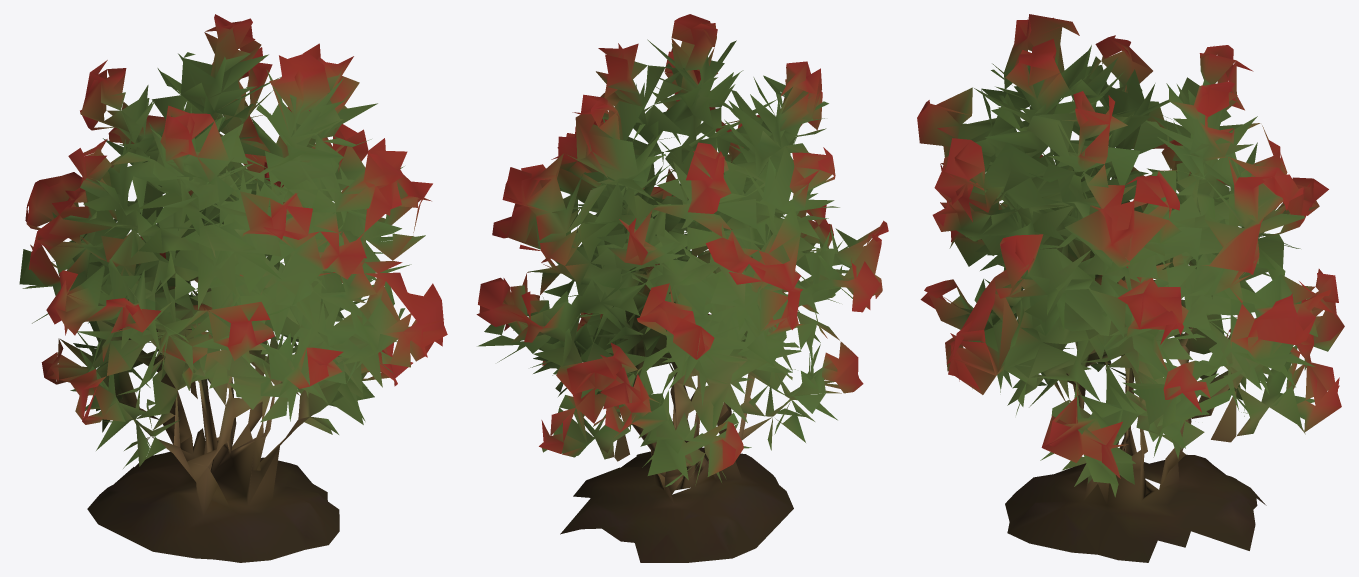
Rendered from nature_bush_t1_oleander.glb.
3 views of the same model, side by side, from view 1: azimuth 30°, elevation 25°; view 2: azimuth 150°, elevation 25°; view 3: azimuth 270°, elevation 25° (orthographic). The views are drawn at different scales.
Parts seen in each view (by area): view 1: world; view 2: world; view 3: world.
Part boxes in pixels (x1,y1,x2,y2): world: [19, 14, 447, 562]; world: [476, 14, 888, 562]; world: [917, 14, 1344, 562].
Bounding box in the file's own units: 1.08 × 1.37 × 1.09.
